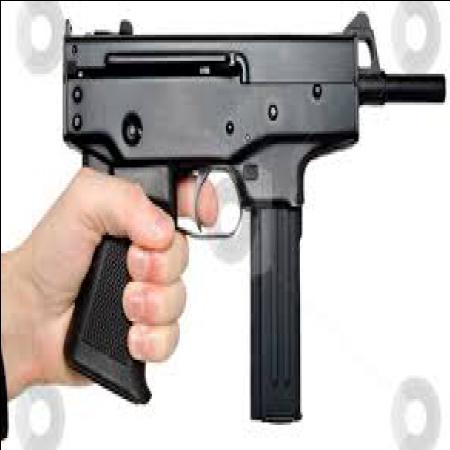Pistol: (49, 5, 386, 416)
